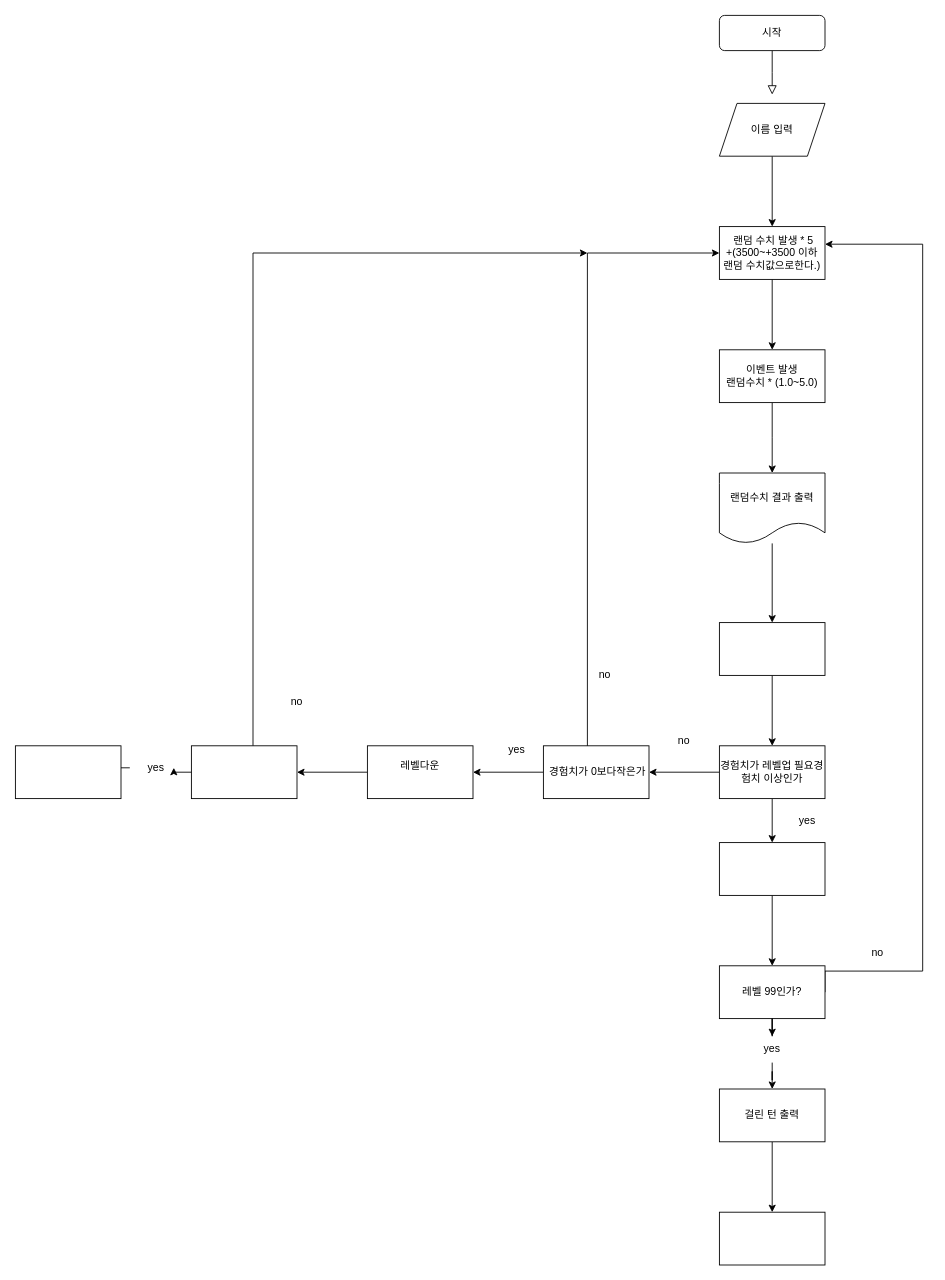
Some shapes in this 945 by 1280 pixel diagram are drawn without their labels. The centre of each missing label's shape, as x and y in pixels:
"레벨업+" goes at point 772,868.
"레벨이 0인가?" goes at point 244,772.
"배드엔딩 ㅃ" goes at point 68,772.
"엔딩" goes at point 772,1238.
"턴마무리 다음턴 진행 의사 확인" goes at point 772,648.
